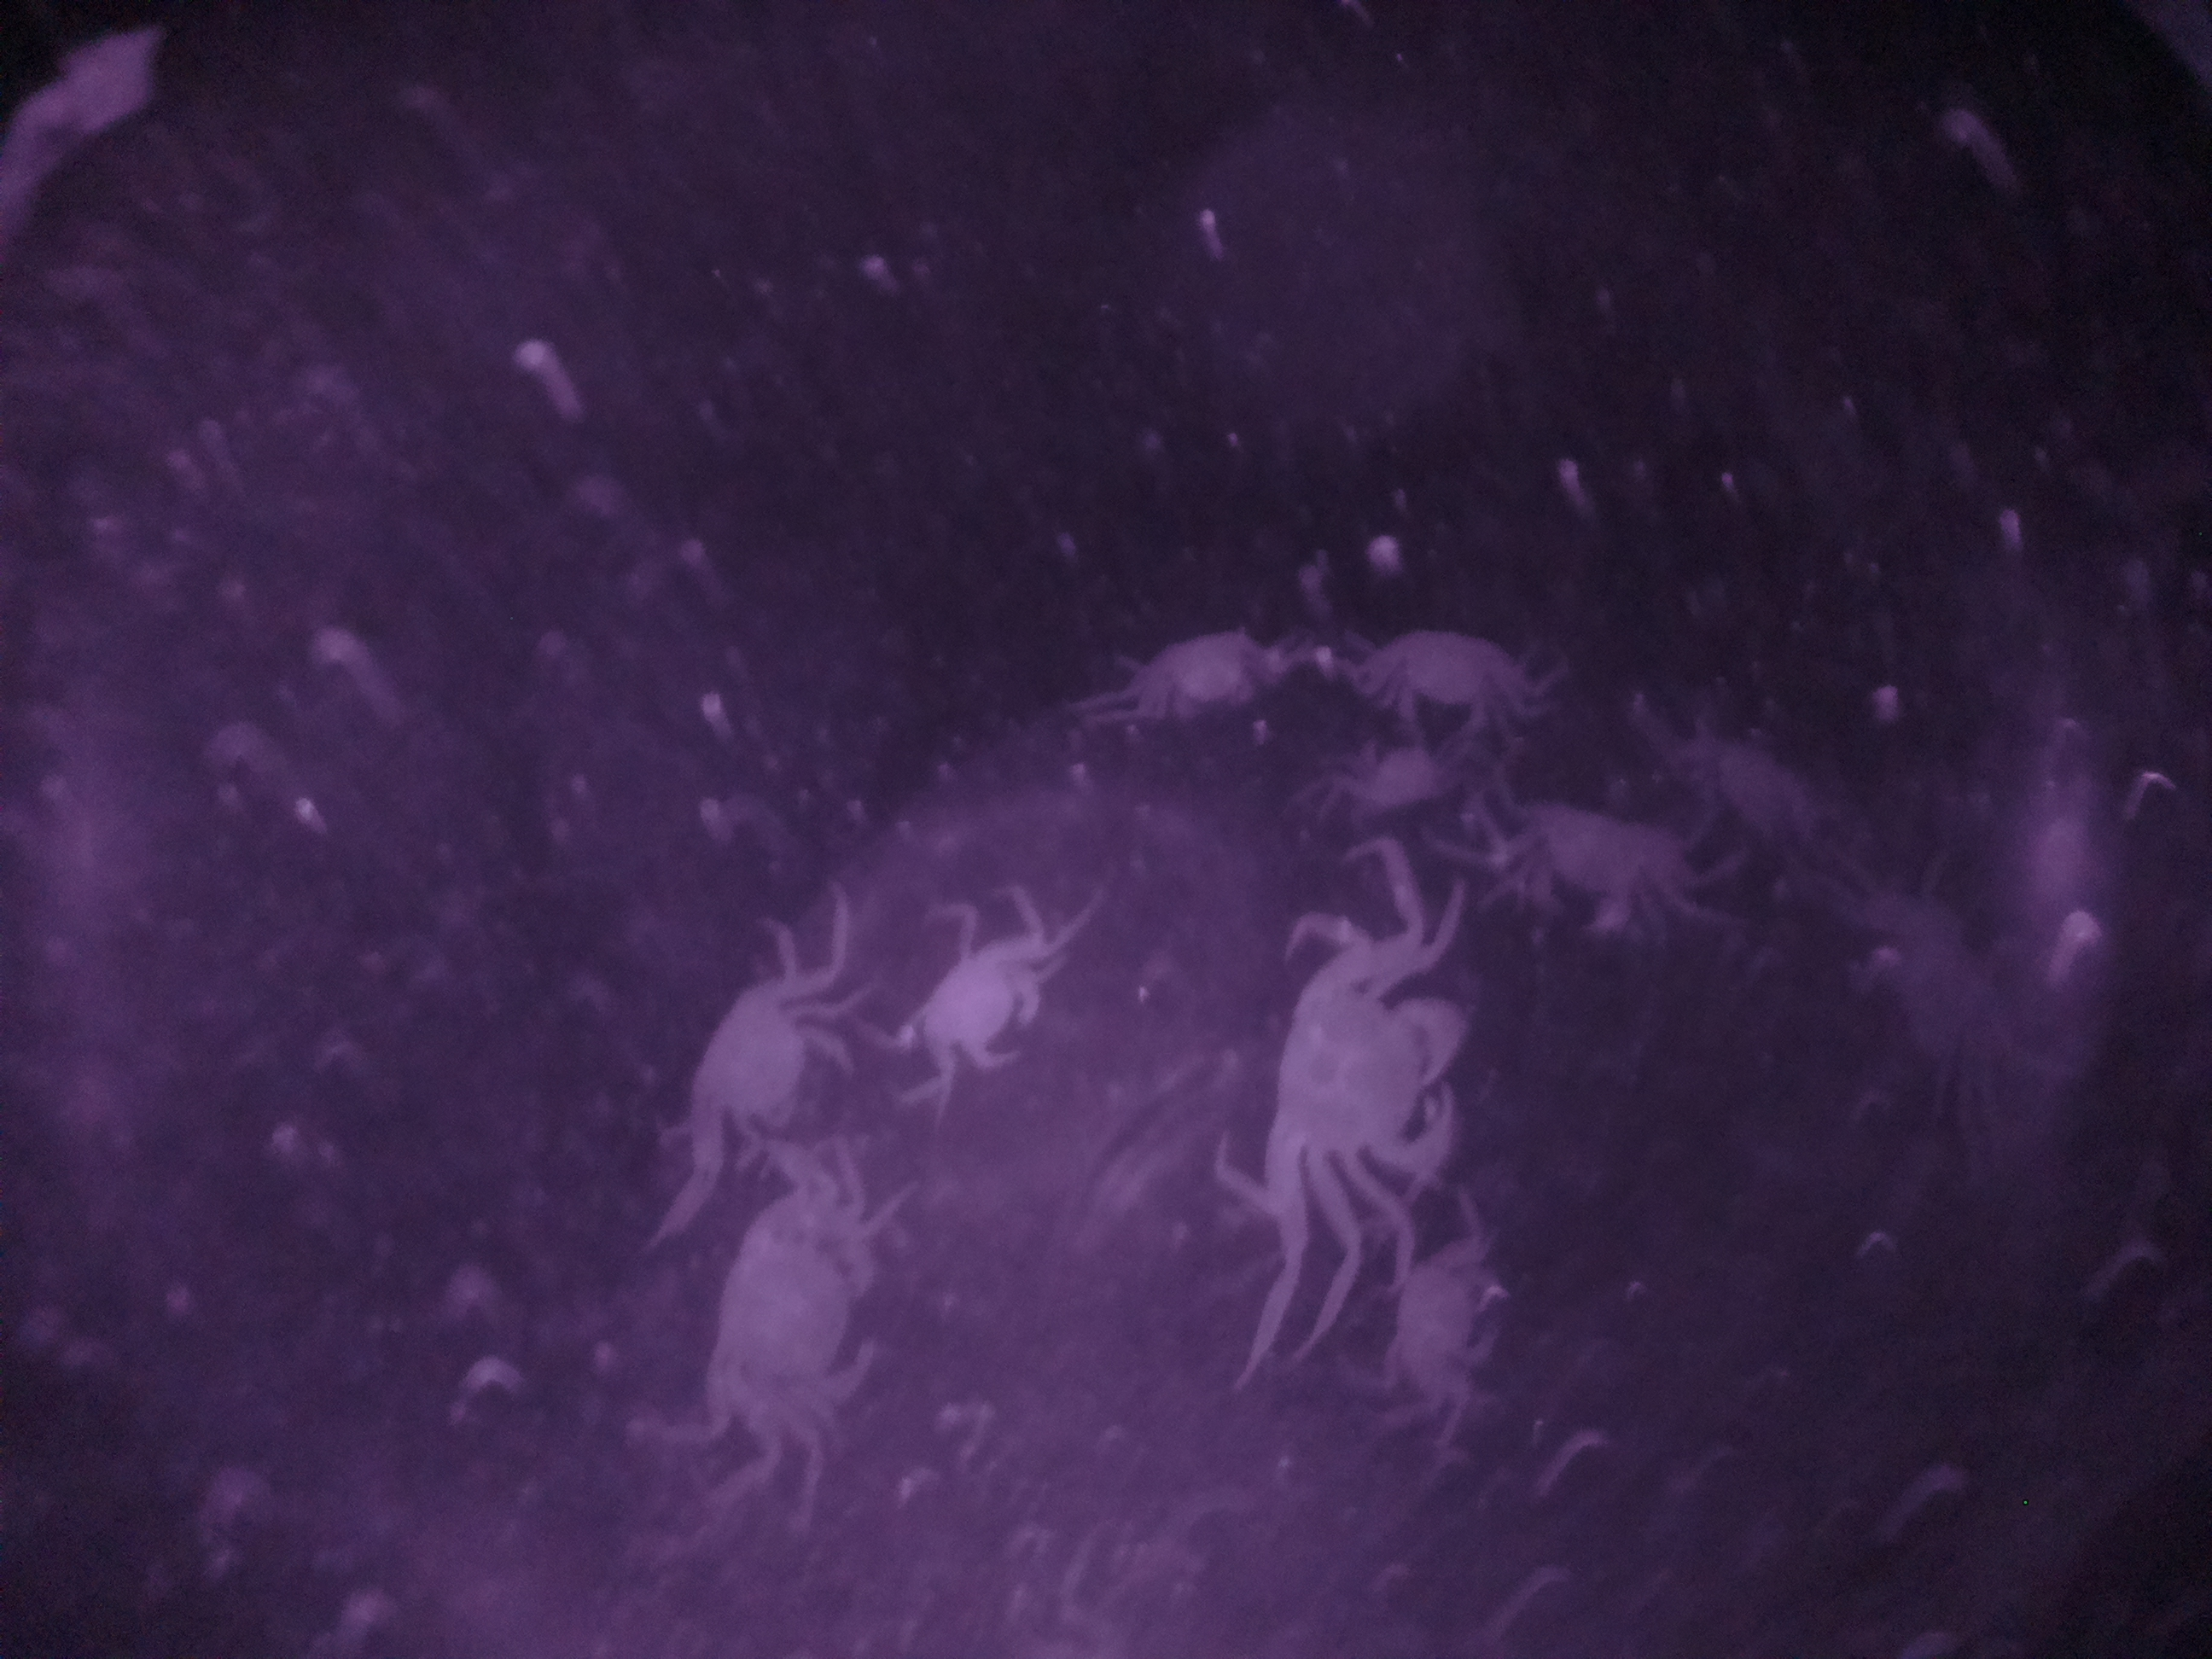Crab: (1266, 941, 1480, 1194), (685, 1208, 902, 1438), (672, 985, 864, 1154), (909, 922, 1057, 1082), (1501, 798, 1660, 932), (1372, 605, 1515, 744), (1369, 1255, 1529, 1377), (1125, 619, 1266, 725)
